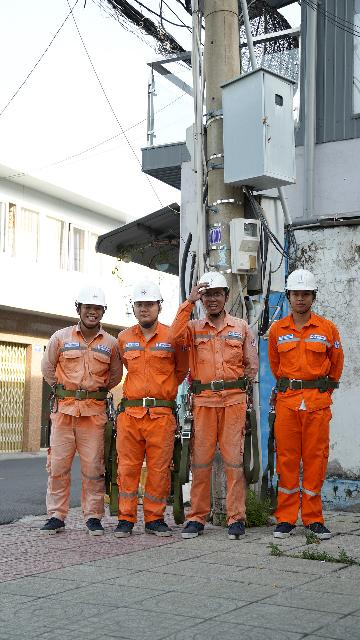harness: (41, 376, 112, 416), (187, 365, 253, 396), (109, 391, 182, 417), (271, 372, 344, 396)
helmet: (67, 278, 116, 318), (277, 269, 319, 297), (129, 279, 170, 307), (196, 269, 233, 296)
shoes: (299, 517, 336, 543), (141, 516, 176, 541), (181, 509, 208, 541), (222, 516, 251, 545), (37, 514, 69, 538), (109, 511, 136, 539), (80, 512, 111, 536), (267, 521, 296, 541)
